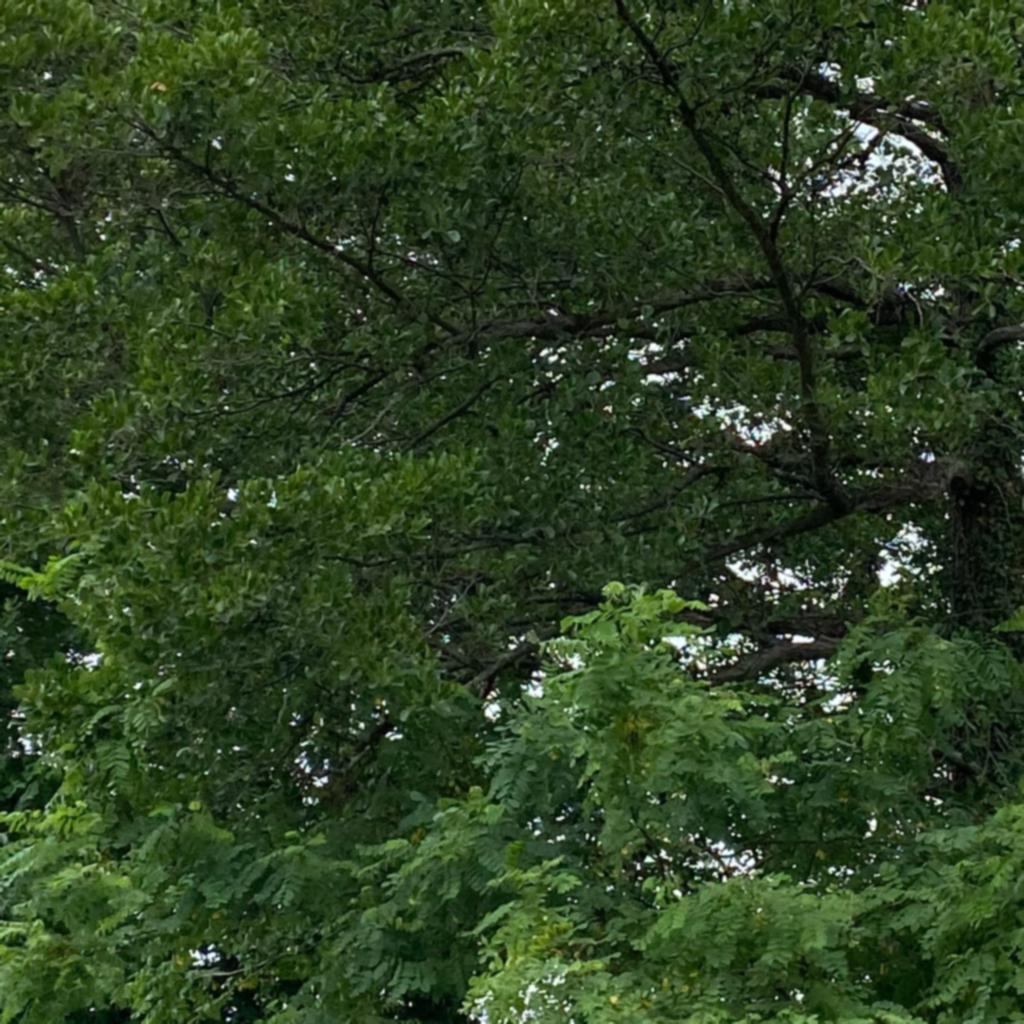tree: (1, 1, 1023, 1023)
